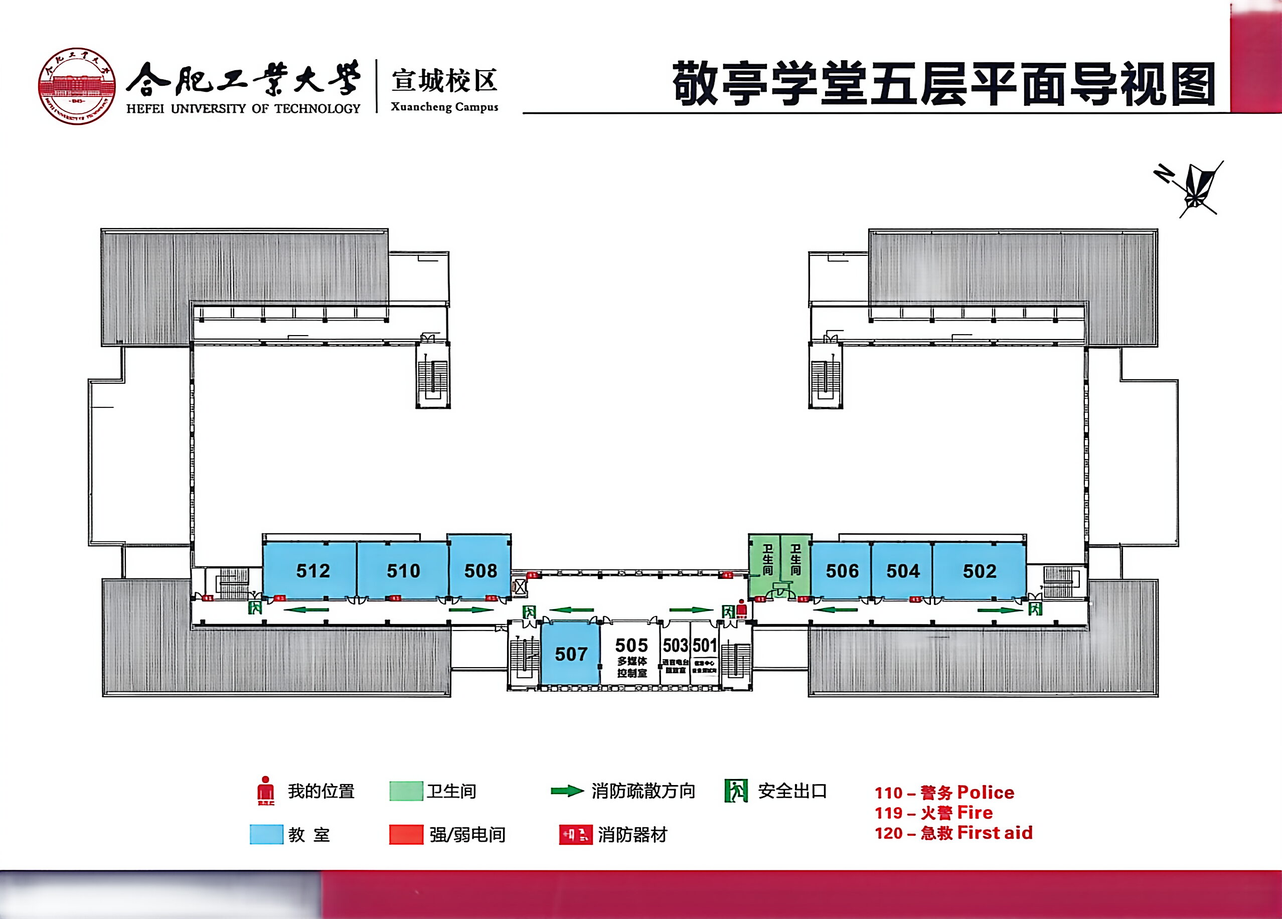501: (690, 622, 719, 686)
502: (933, 542, 1025, 600)
503: (661, 622, 690, 686)
504: (872, 542, 933, 600)
505: (600, 622, 660, 686)
506: (811, 542, 871, 600)
507: (541, 621, 599, 685)
508: (449, 534, 511, 599)
510: (357, 542, 448, 599)
512: (263, 542, 356, 600)
Exit: (191, 567, 263, 599), (719, 622, 752, 690), (416, 343, 450, 407), (1027, 564, 1086, 600), (810, 344, 842, 408), (508, 621, 540, 685)
Toliet: (749, 535, 810, 598)
